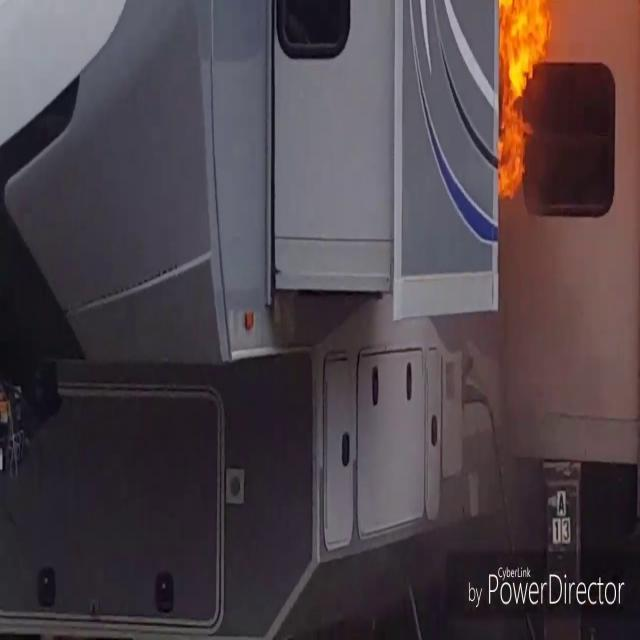Fire: (496, 0, 560, 198)
